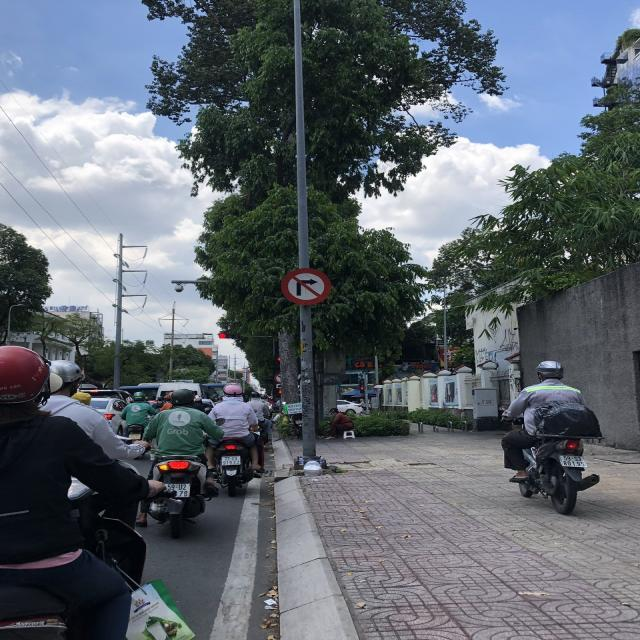Bien bao cam re phai: (279, 264, 333, 305)
